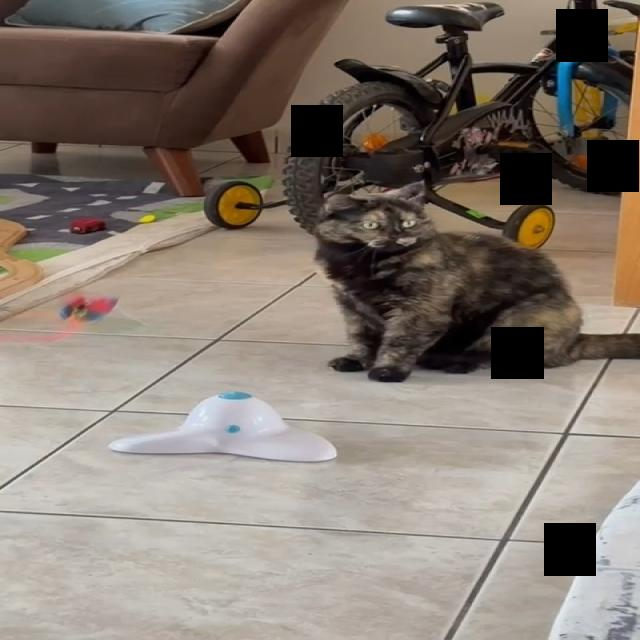authorized: (312, 180, 639, 382)
